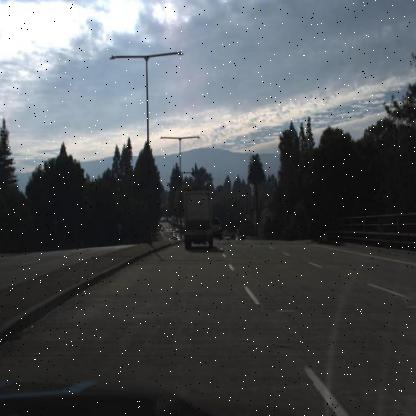car: (210, 216, 224, 240)
truck: (183, 188, 215, 250)
